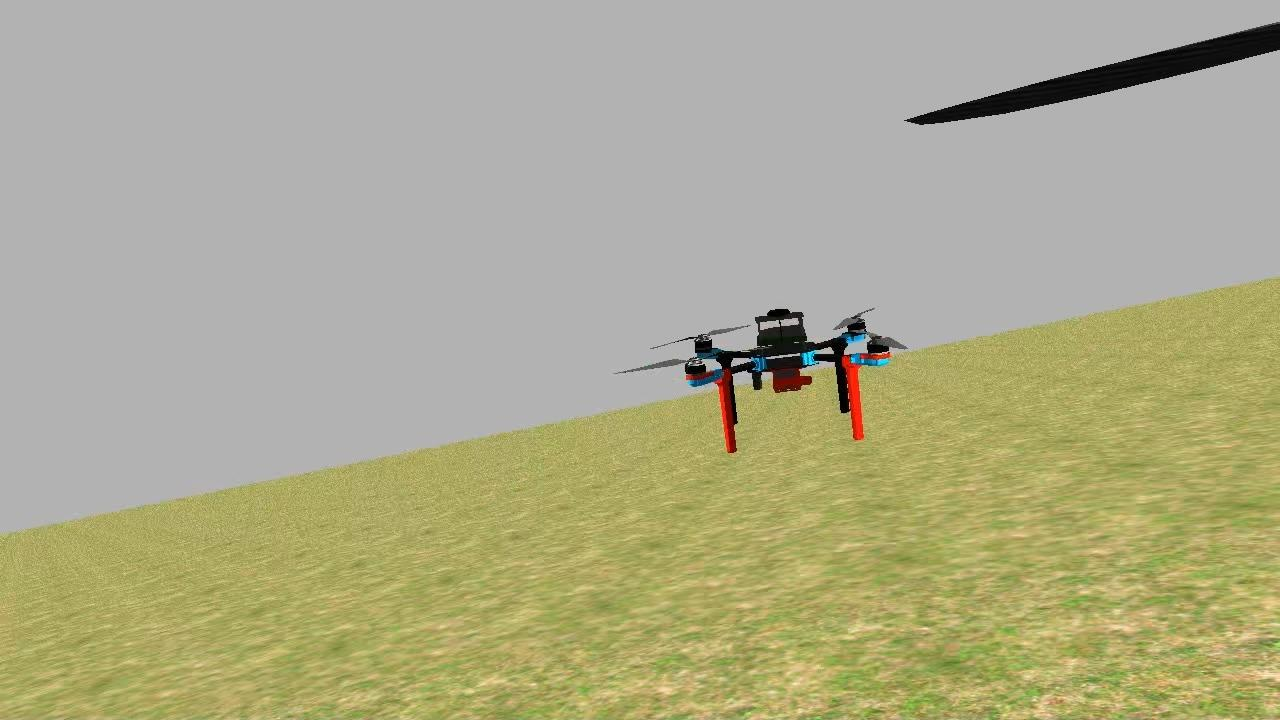UAV: (666, 289, 906, 463)
